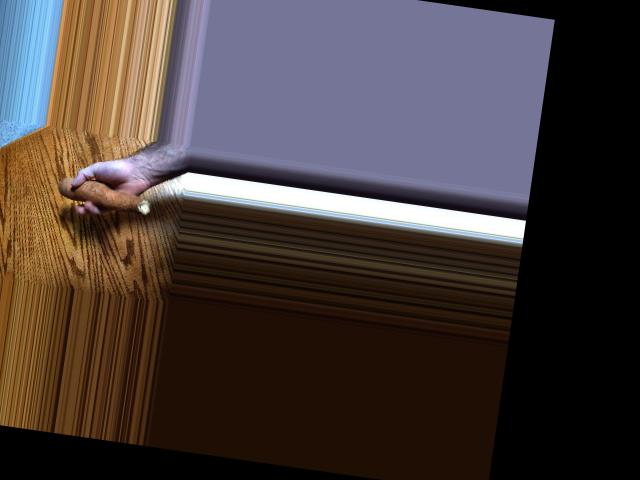sweet_potato: (61, 174, 145, 216)
